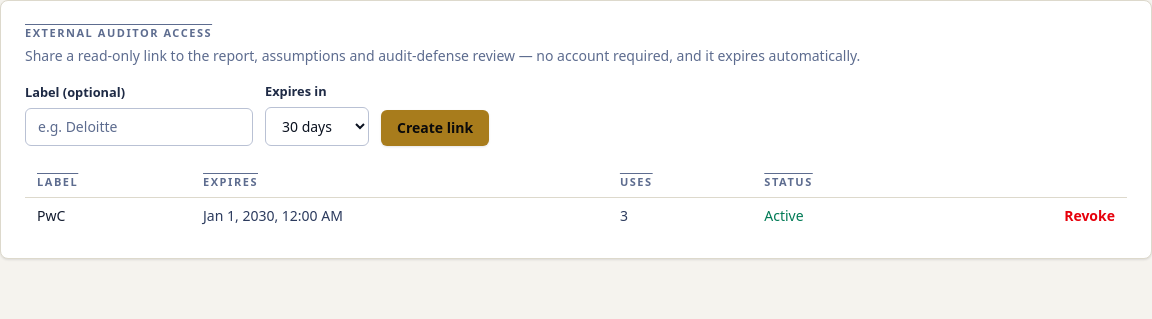
Test: AuditorAccessPanel — revoking › says so when the revoke fails, and does not claim the link is gone
Step 1. Click the button "Revoke" → (1090, 216), box [1064,206,1115,226]
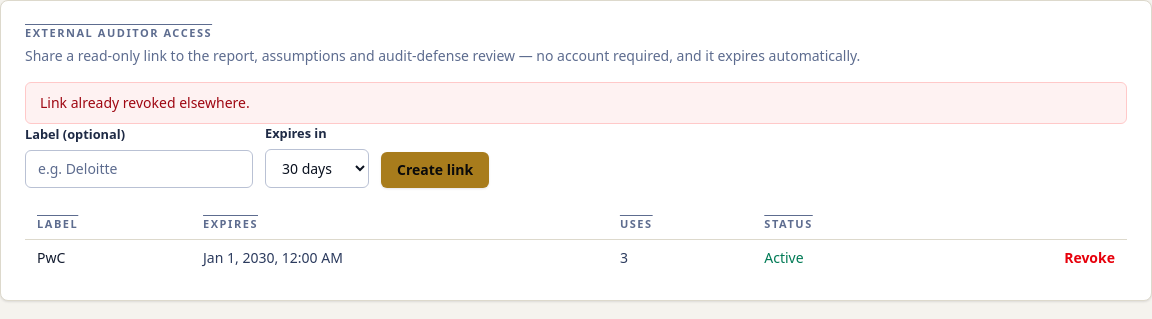
Expected: the text "Active" is shown, [764,248,804,267]
Now the text "Link already revoked elsewhere." is shown, box [25,82,1127,124]
